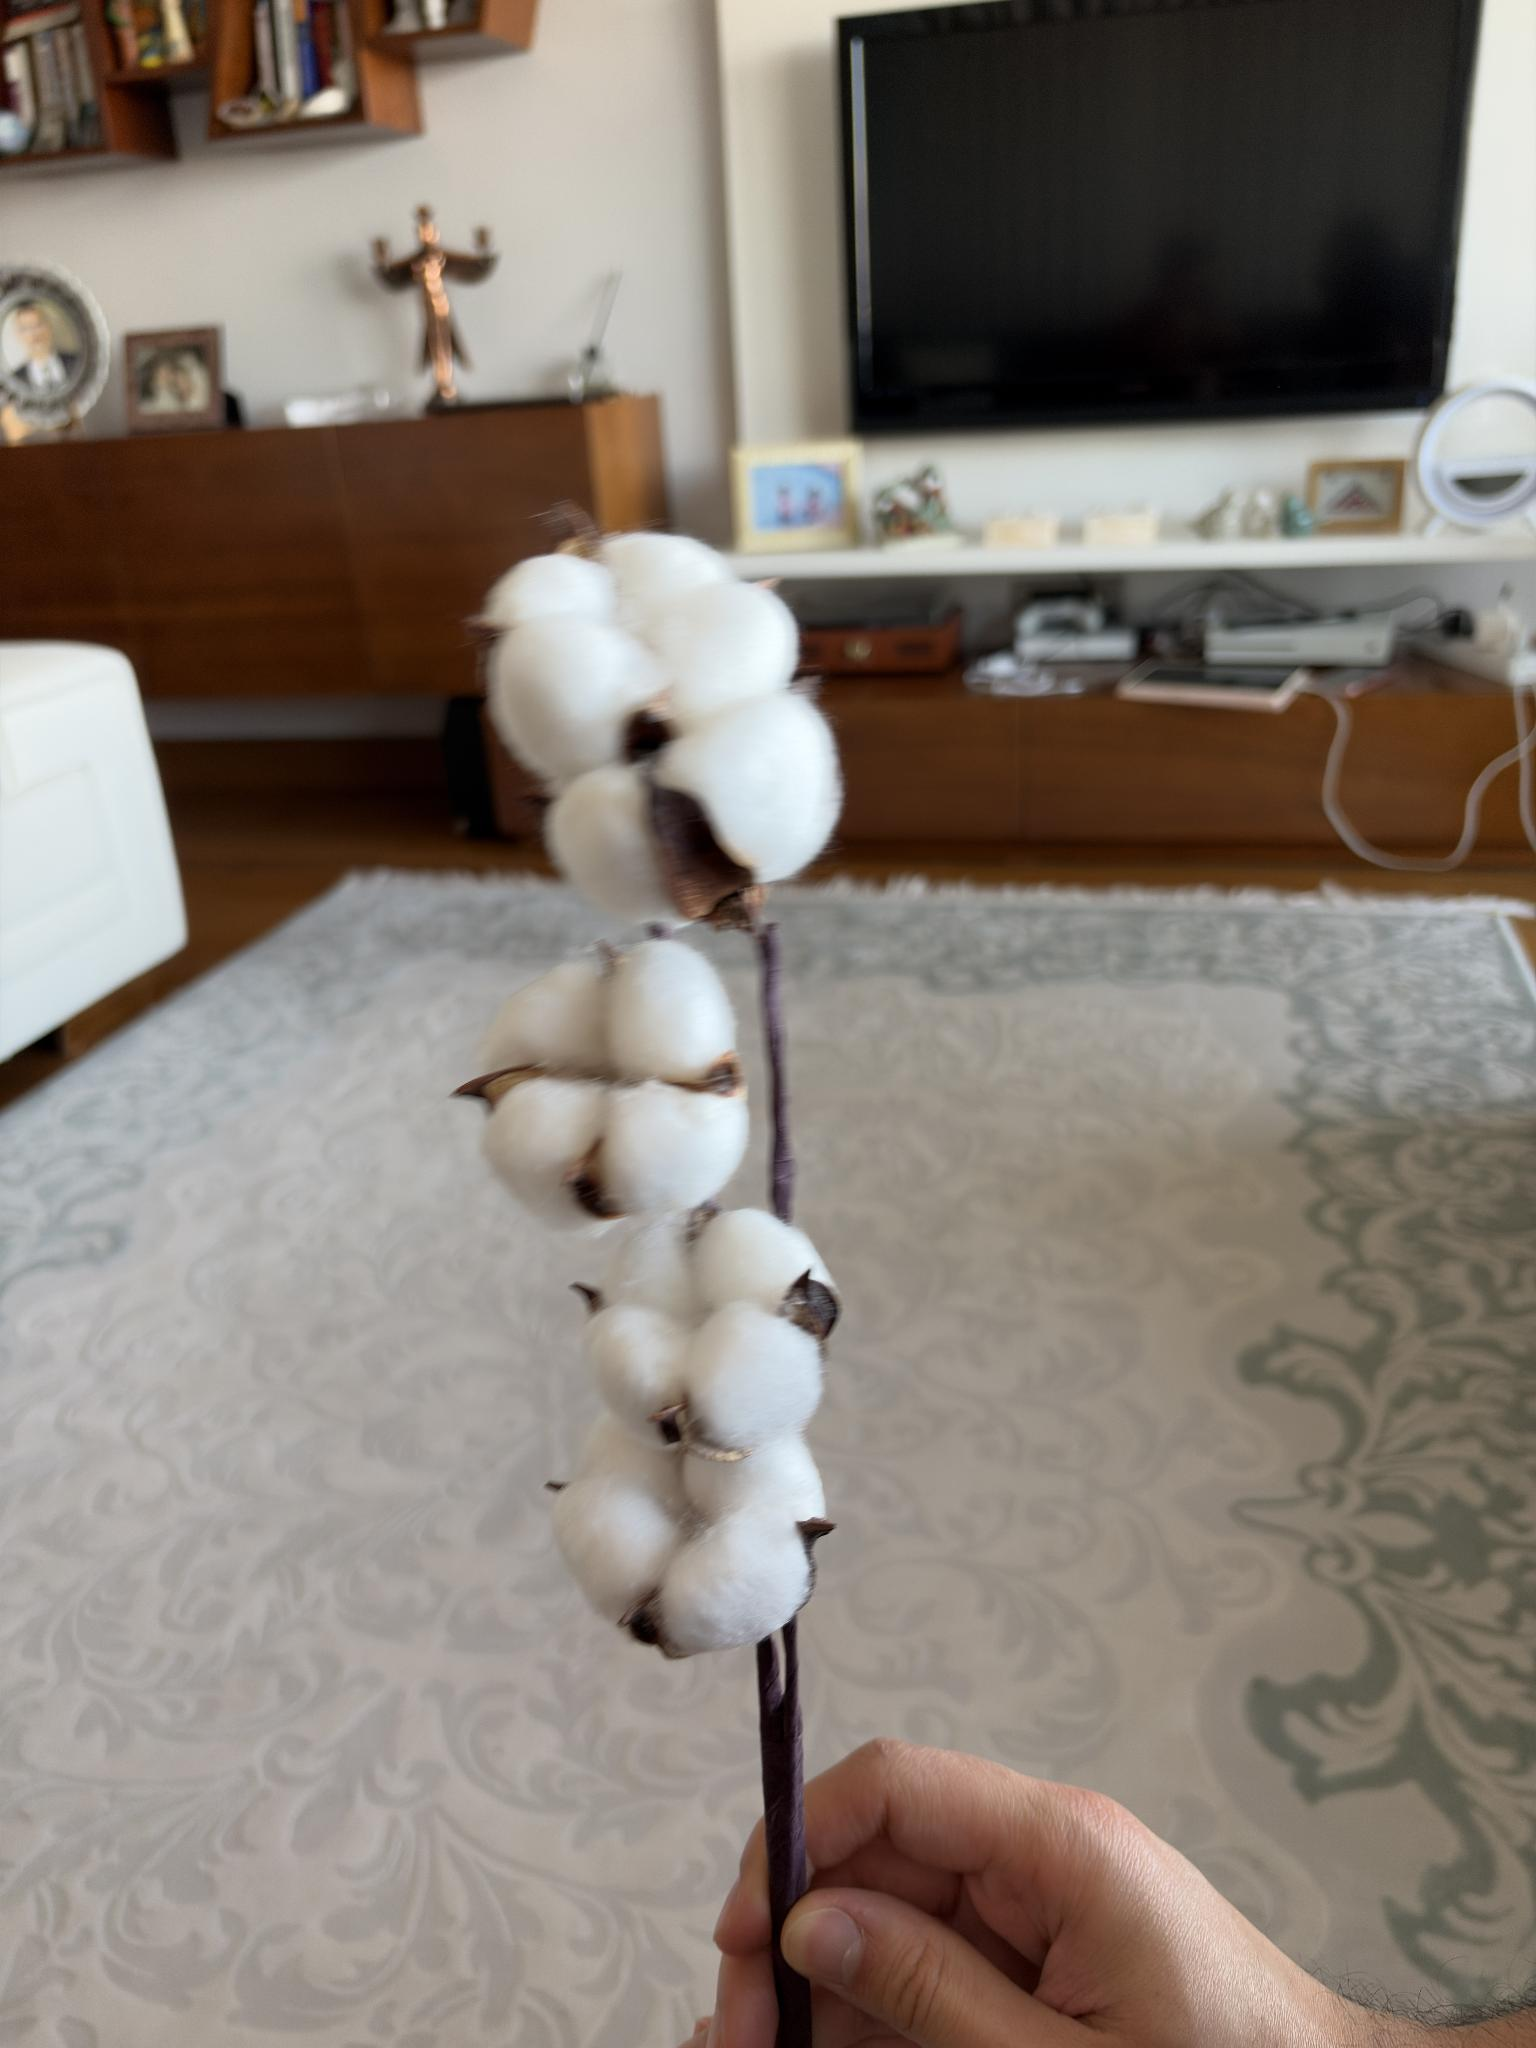cotton_boll: (655, 689, 842, 882), (490, 613, 662, 787), (650, 1508, 812, 1655), (684, 1301, 823, 1451), (545, 763, 674, 922), (652, 582, 799, 719), (597, 1080, 749, 1213), (552, 1472, 681, 1624), (608, 939, 736, 1087), (484, 1077, 608, 1227), (692, 1208, 836, 1313), (486, 955, 608, 1077), (584, 1303, 689, 1445), (600, 532, 734, 640), (682, 1434, 824, 1521), (576, 1408, 684, 1517), (600, 1211, 702, 1324), (481, 553, 615, 631)
cotton_boll-cluster: (465, 513, 858, 940), (470, 932, 755, 1235), (544, 1384, 833, 1667), (570, 1197, 845, 1469)
